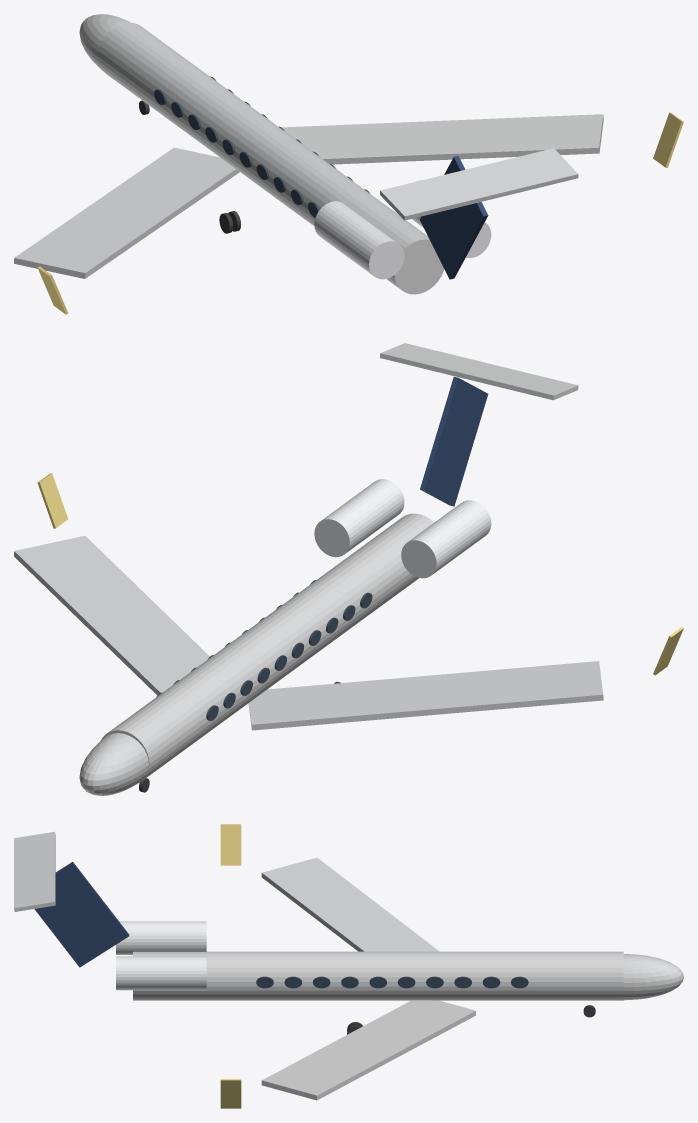
The model's file is gulfstream_g700.glb.
3 views of the same model, one above another, from view 1: azimuth 30°, elevation 25°; view 2: azimuth 150°, elevation 25°; view 3: azimuth 270°, elevation 25° (orthographic). The views are drawn at different scales.
Visible parts, largest first — view 1: G700_Fuselage, G700_Wing_R, G700_Wing_L, G700_HTail, G700_Engine_L, G700_VFin, G700_Nose, G700_Winglet_R, G700_Engine_R, G700_Winglet_L; view 2: G700_Fuselage, G700_Wing_L, G700_Wing_R, G700_VFin, G700_HTail, G700_Engine_L, G700_Engine_R, G700_Nose, G700_Winglet_R; view 3: G700_Fuselage, G700_Wing_R, G700_Wing_L, G700_VFin, G700_Engine_R, G700_HTail, G700_Engine_L, G700_Nose, G700_Winglet_L, G700_Winglet_R.
Part boxes in pixels (x1=…): G700_Fuselage: x1=98, y1=22, x2=444, y2=294; G700_Wing_R: x1=281, y1=114, x2=603, y2=164; G700_Wing_L: x1=14, y1=147, x2=239, y2=278; G700_HTail: x1=380, y1=148, x2=578, y2=220; G700_Engine_L: x1=314, y1=201, x2=404, y2=279; G700_VFin: x1=420, y1=155, x2=488, y2=279; G700_Nose: x1=79, y1=14, x2=130, y2=70; G700_Winglet_R: x1=653, y1=112, x2=683, y2=167; G700_Engine_R: x1=412, y1=180, x2=491, y2=257; G700_Winglet_L: x1=37, y1=266, x2=68, y2=314; G700_Fuselage: x1=100, y1=513, x2=434, y2=783; G700_Wing_L: x1=248, y1=661, x2=603, y2=730; G700_Wing_R: x1=14, y1=535, x2=209, y2=695; G700_VFin: x1=420, y1=376, x2=488, y2=506; G700_HTail: x1=380, y1=343, x2=578, y2=400; G700_Engine_L: x1=401, y1=500, x2=491, y2=578; G700_Engine_R: x1=314, y1=479, x2=404, y2=557; G700_Nose: x1=79, y1=733, x2=148, y2=795; G700_Winglet_R: x1=37, y1=473, x2=67, y2=528; G700_Fuselage: x1=133, y1=951, x2=623, y2=1000; G700_Wing_R: x1=261, y1=1000, x2=475, y2=1100; G700_Wing_L: x1=261, y1=857, x2=439, y2=951; G700_VFin: x1=34, y1=862, x2=129, y2=967; G700_Engine_R: x1=116, y1=956, x2=206, y2=990; G700_HTail: x1=14, y1=831, x2=55, y2=911; G700_Engine_L: x1=116, y1=921, x2=206, y2=954; G700_Nose: x1=623, y1=954, x2=683, y2=1000; G700_Winglet_L: x1=220, y1=824, x2=241, y2=865; G700_Winglet_R: x1=220, y1=1079, x2=241, y2=1108.
Bounding box in the file's own units: 32.14 × 9.05 × 35.5.
